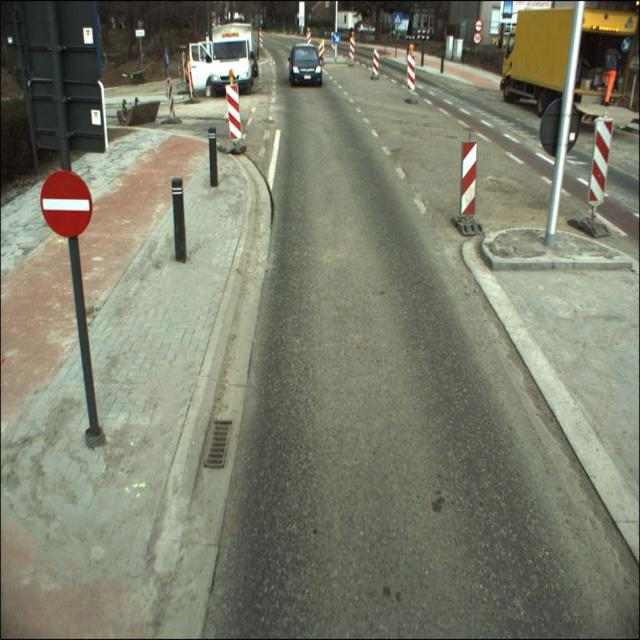girisyok: (40, 171, 92, 239)
